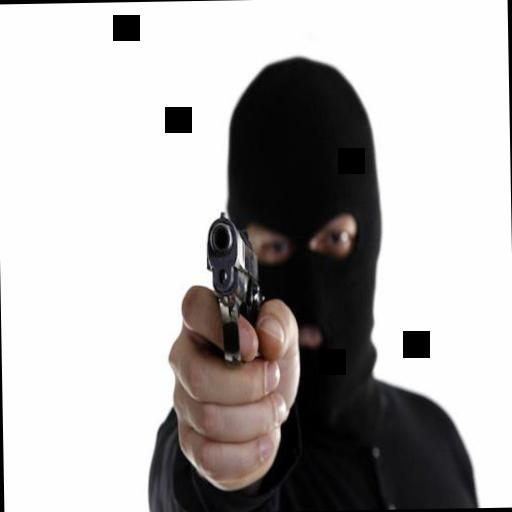Handgun: (205, 208, 269, 368)
